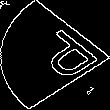P_SE: (12, 24, 98, 86)
